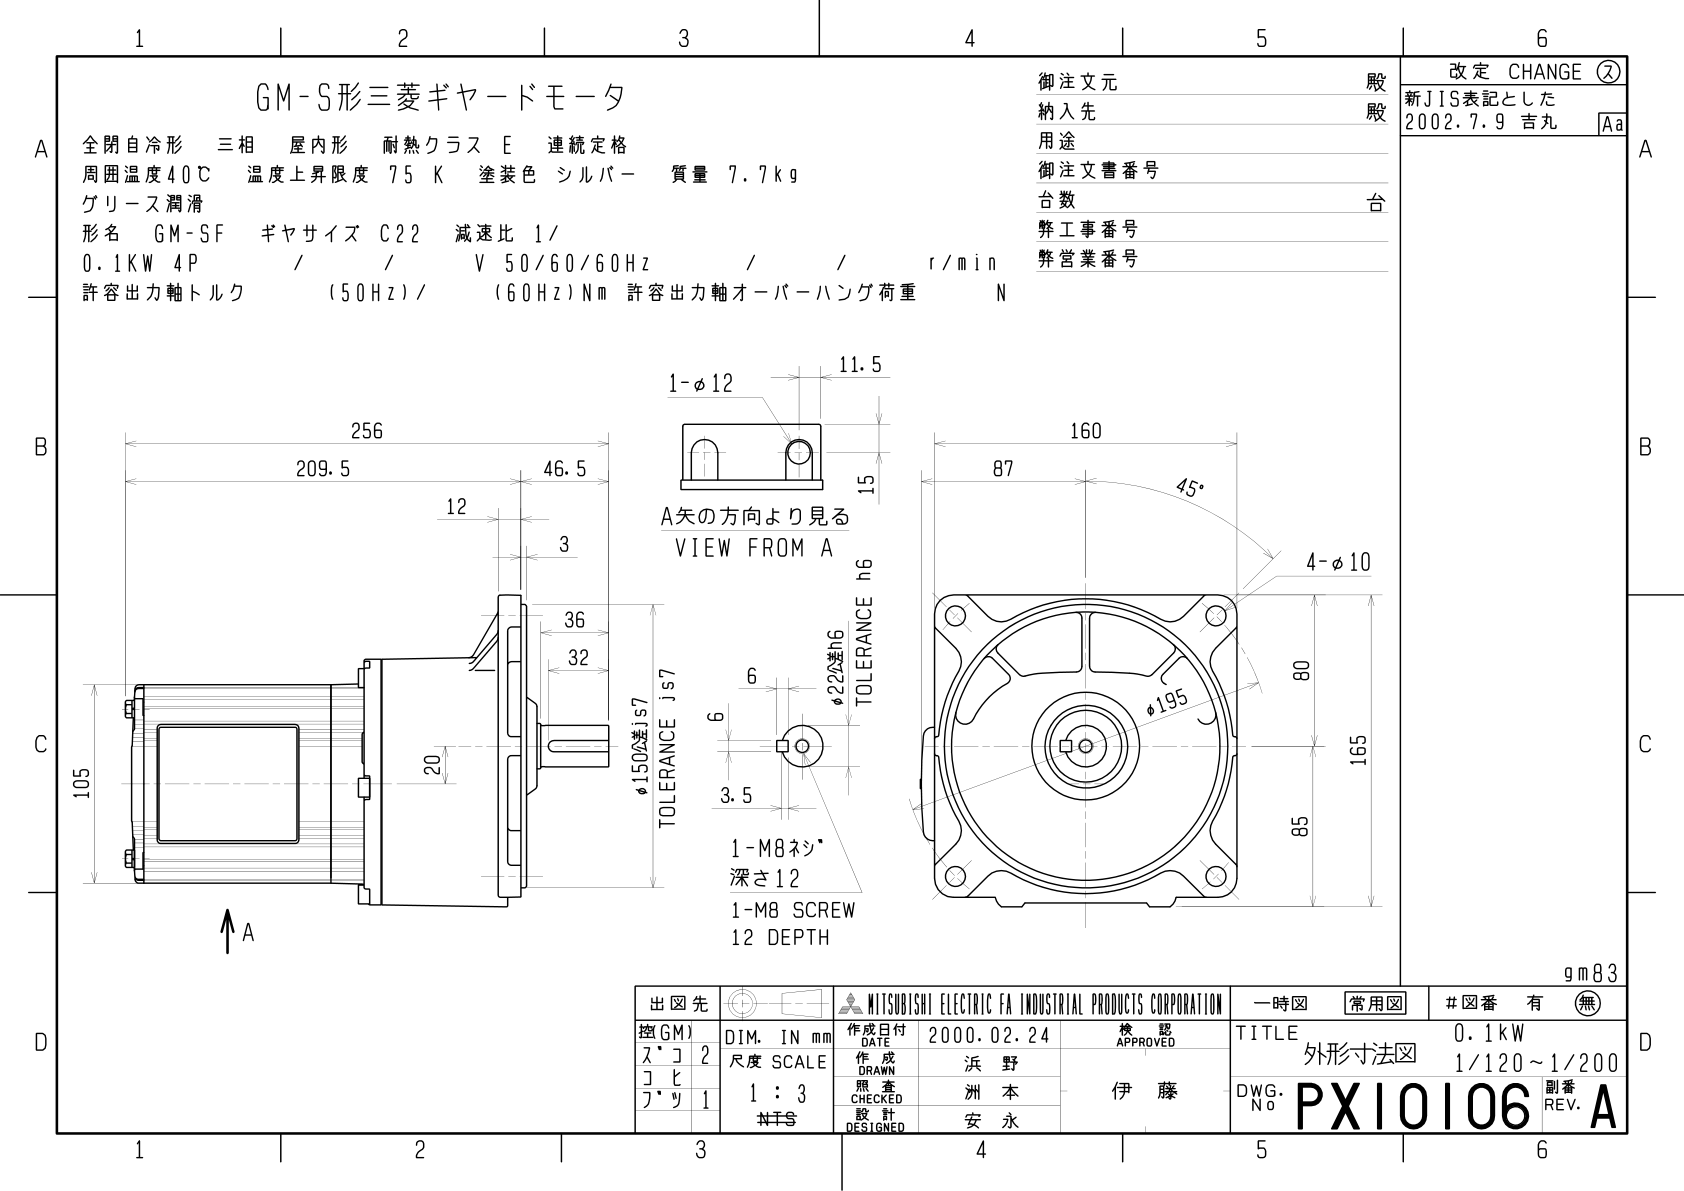GM_S_屋内＿三相_フランジ: (64, 343, 1399, 965)
